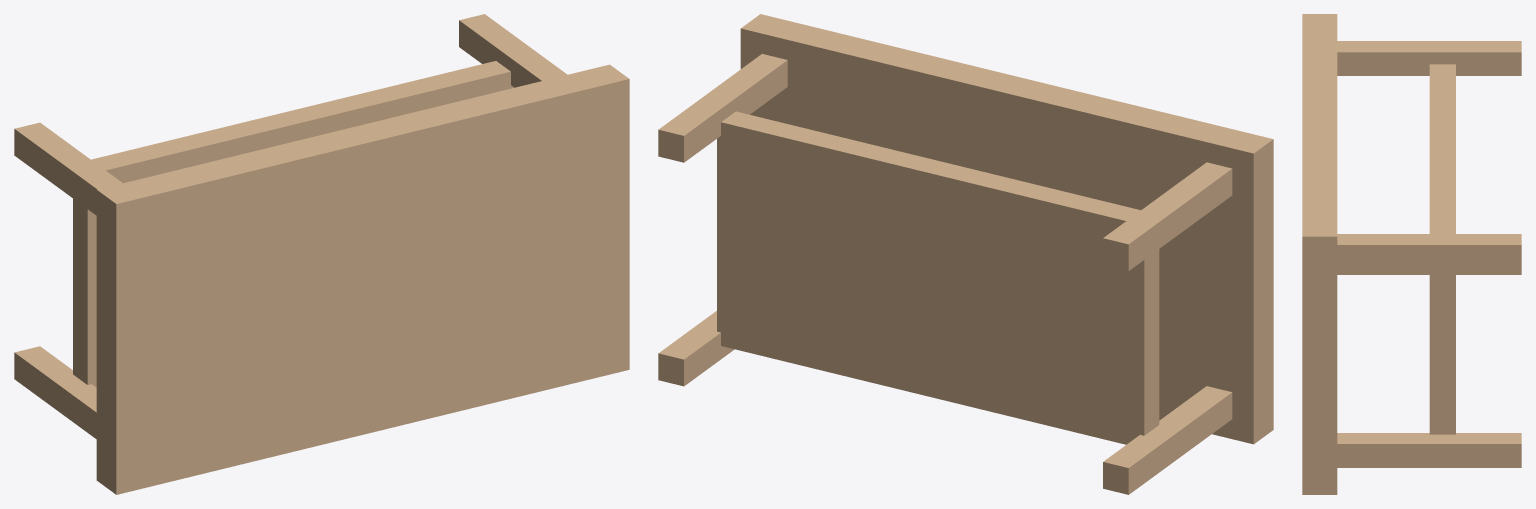
Rendered from coffee_table.glb.
The picture shows the model from 3 angles, left to right: view 1: azimuth 30°, elevation 25°; view 2: azimuth 150°, elevation 25°; view 3: azimuth 270°, elevation 25°; orthographic projection. The views are drawn at different scales.
Parts seen in each view (by area): view 1: world; view 2: world; view 3: world.
Part boxes in pixels (left/top/right/bottom): world: left=14, top=14, right=629, bottom=494; world: left=658, top=14, right=1273, bottom=494; world: left=1302, top=14, right=1521, bottom=494.
Bounding box in the file's own units: 1.2 × 0.65 × 0.5.
